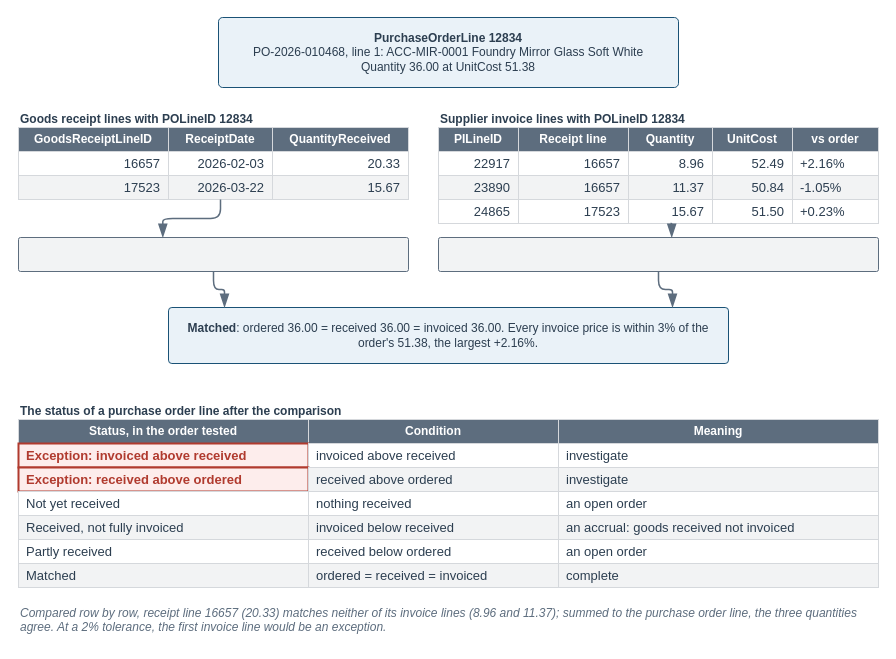
Image size: 896x659. Some labels were removed from this diagram. Each missing label, with the centre of its shape:
"SUM(Quantity) = 36.00" belongs at [658,254].
"SUM(QuantityReceived) = 36.00" belongs at [213,254].
